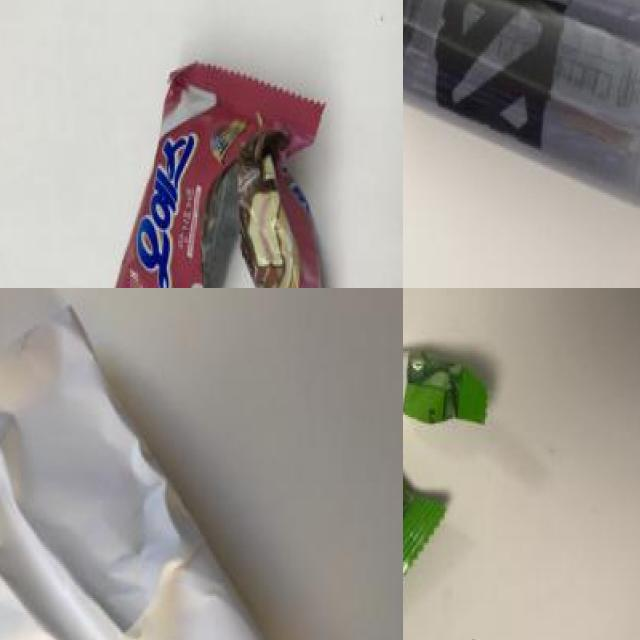paper: (0, 325, 286, 640)
plastic: (403, 0, 640, 210)
trash: (100, 39, 366, 288), (403, 288, 516, 640)
